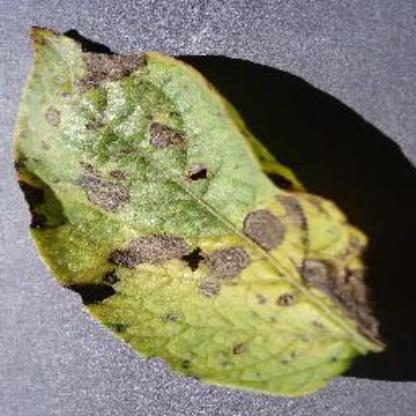Early-Blight: (9, 20, 406, 404)
